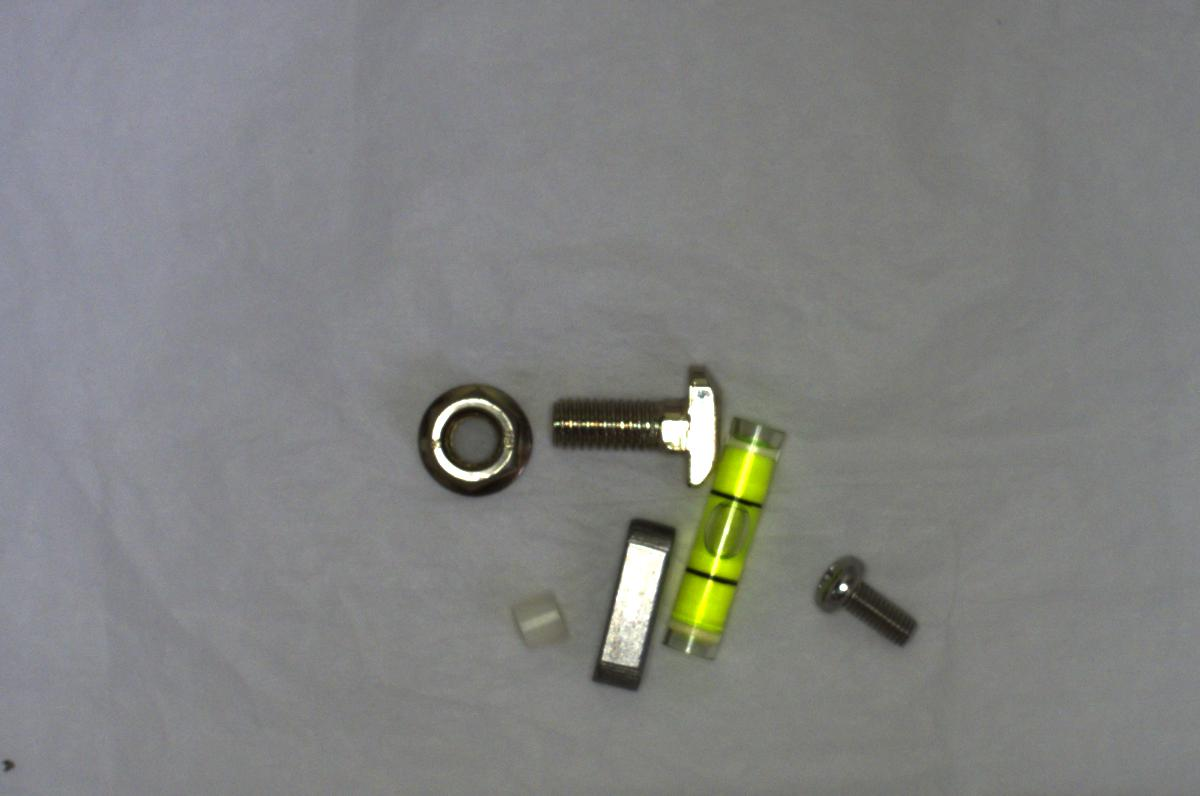Flange nut: (405, 383, 538, 499)
Horizontal bubble: (654, 400, 777, 673)
Keybar: (577, 510, 679, 696)
Plastic cushion pillar: (508, 586, 571, 653)
Round head screw: (808, 553, 919, 649)
T-shaped screw: (541, 356, 722, 492)
